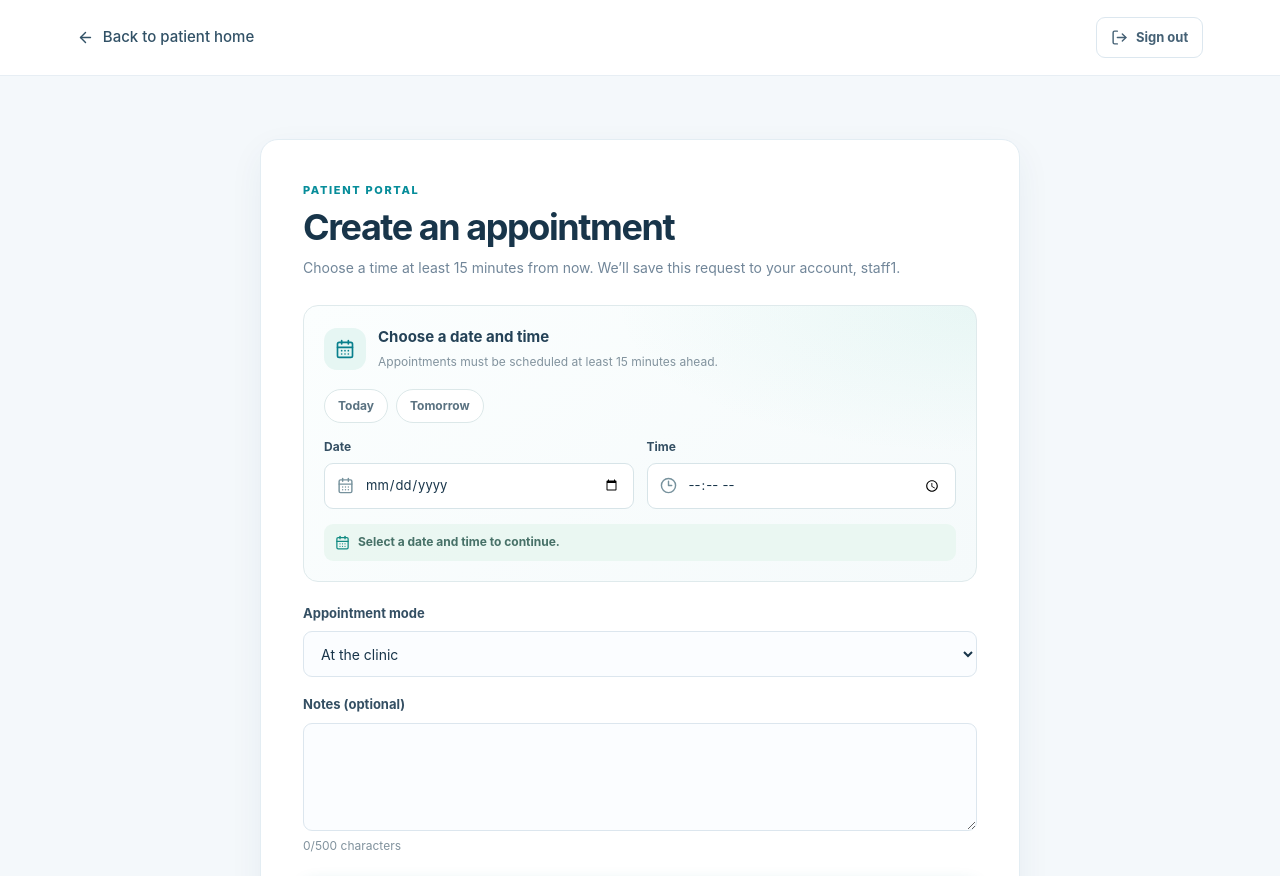
Scenario: appointment page integrations › creates a patient appointment using only the supported appointment fields
The image size is (1280, 876).
Click the button "Tomorrow": (440,406) top-left (396, 389), bottom-right (484, 423)
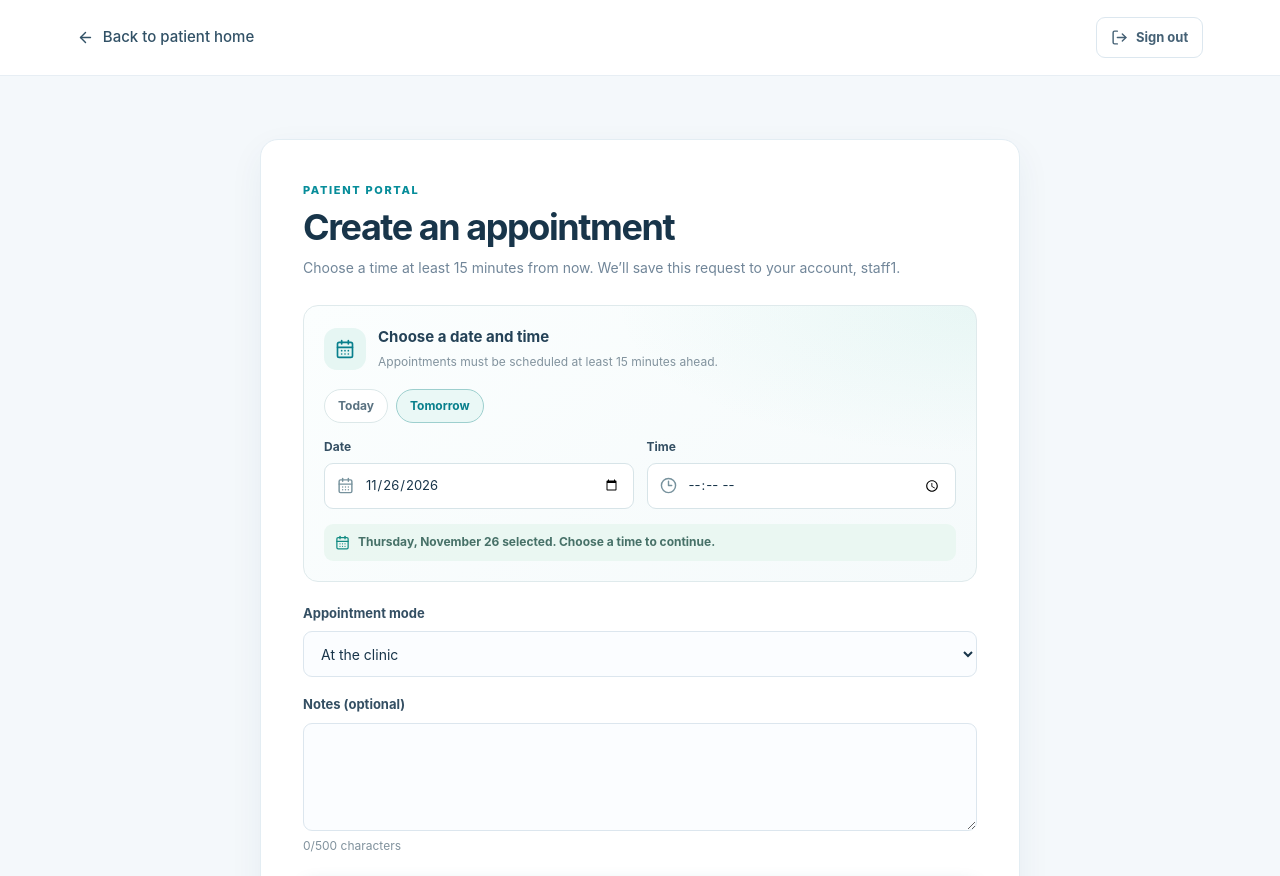
Click the button "Today": (356,406) top-left (324, 389), bottom-right (388, 423)
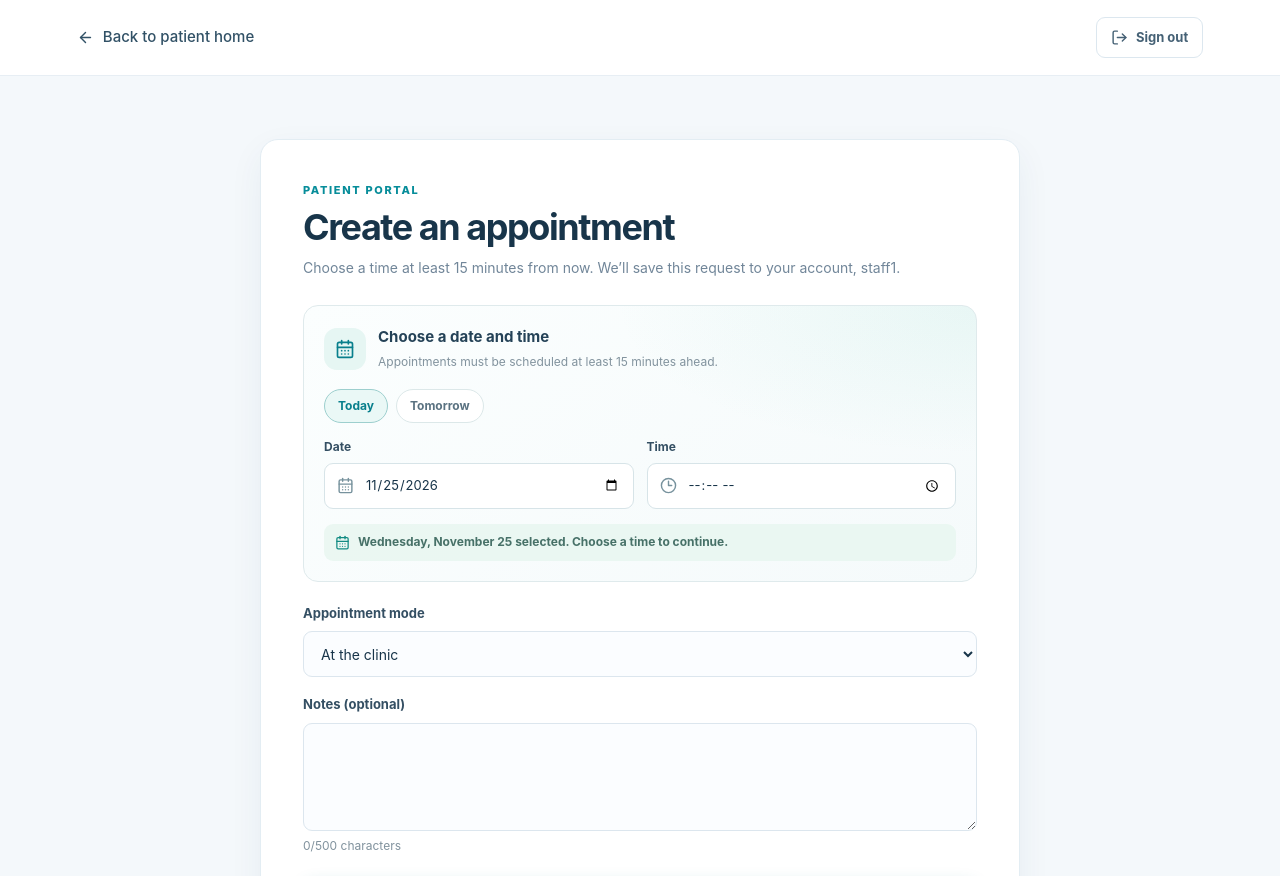
In the date field labelled "Date": (479,486) top-left (324, 463), bottom-right (634, 509), type "2031-05-04"
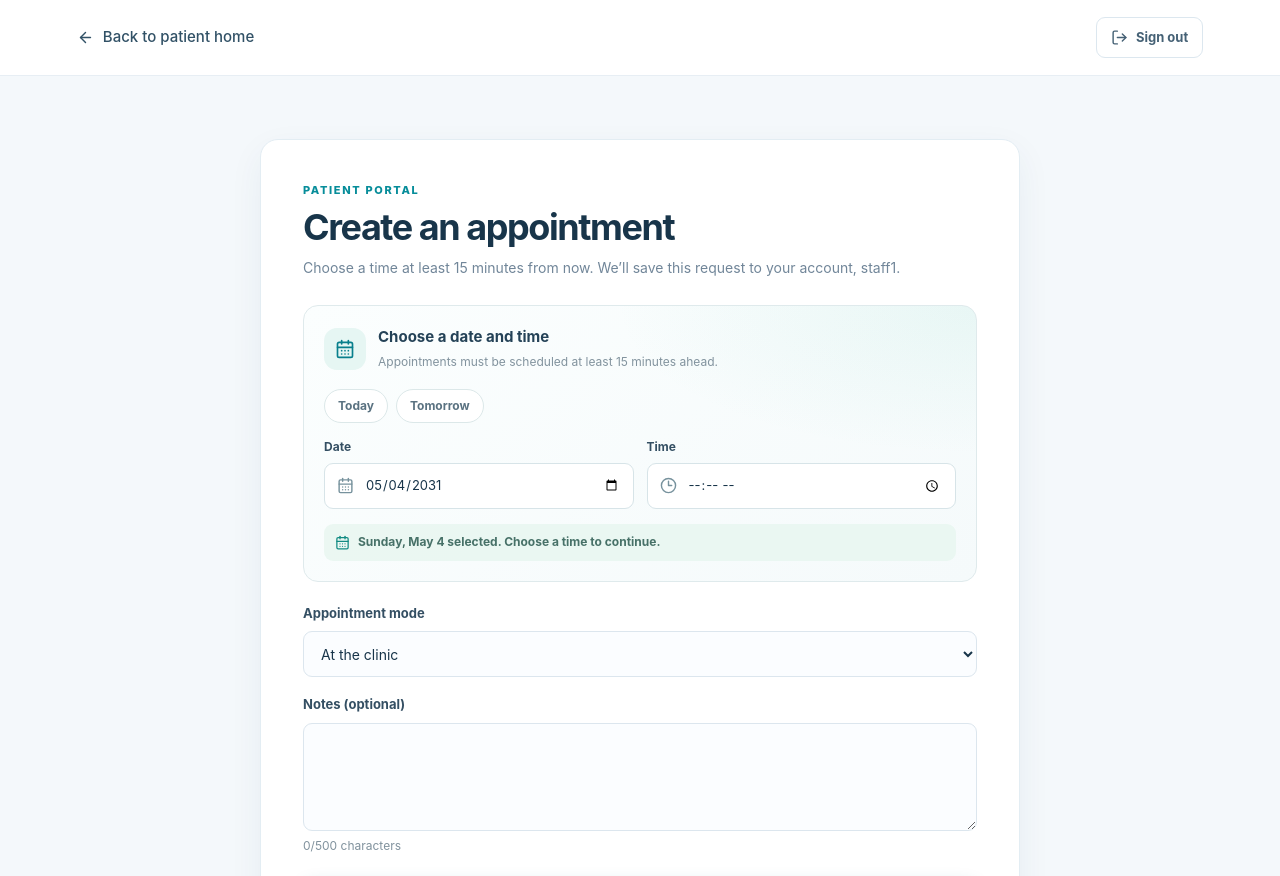
In the time field labelled "Time": (801,486) top-left (646, 463), bottom-right (956, 509), type "10:30"
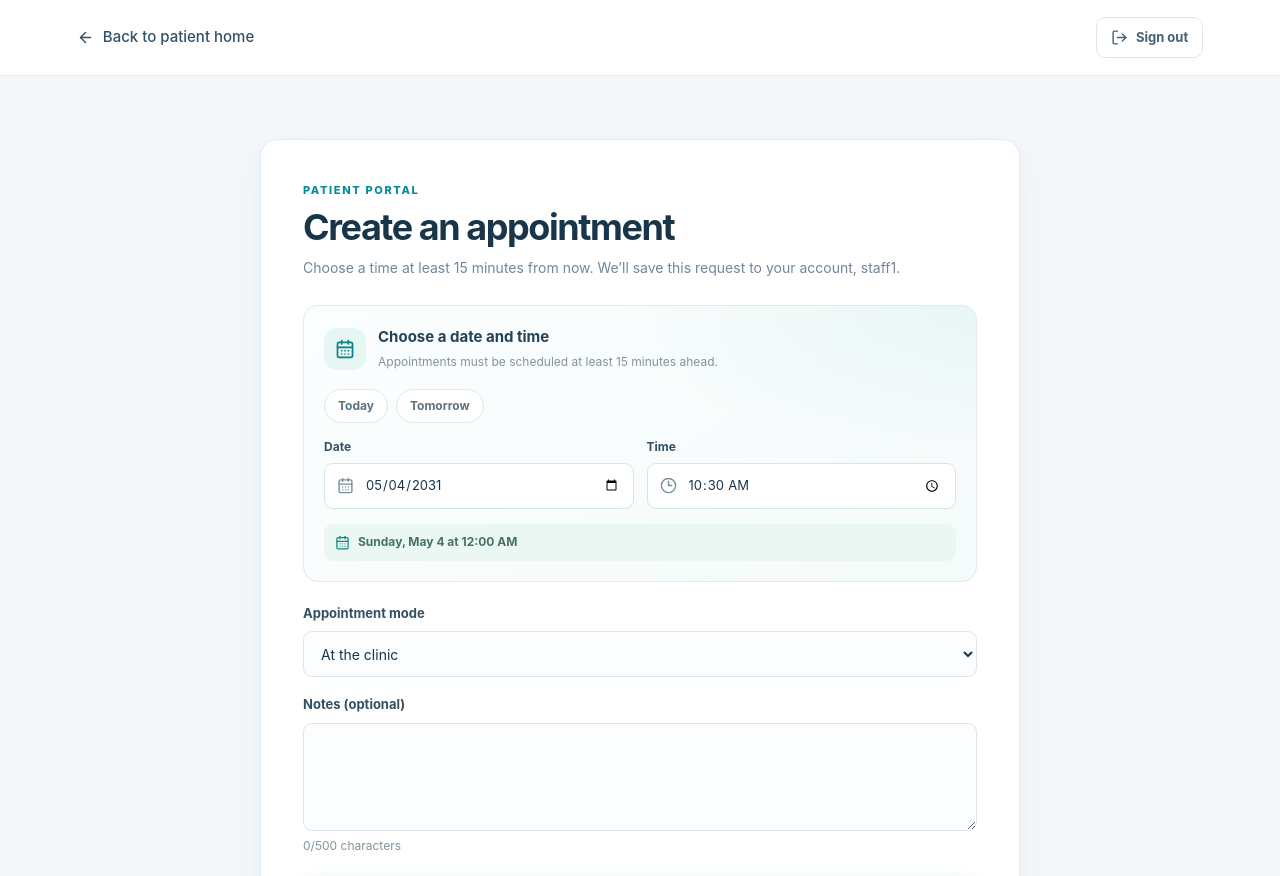
Select "Online" in the dropdown labelled "Appointment mode": (640,654) top-left (303, 632), bottom-right (977, 678)
In the text box labelled "Notes (optional)": (640,777) top-left (303, 723), bottom-right (977, 831), type "  Initial consultation  "
(page scrolled)
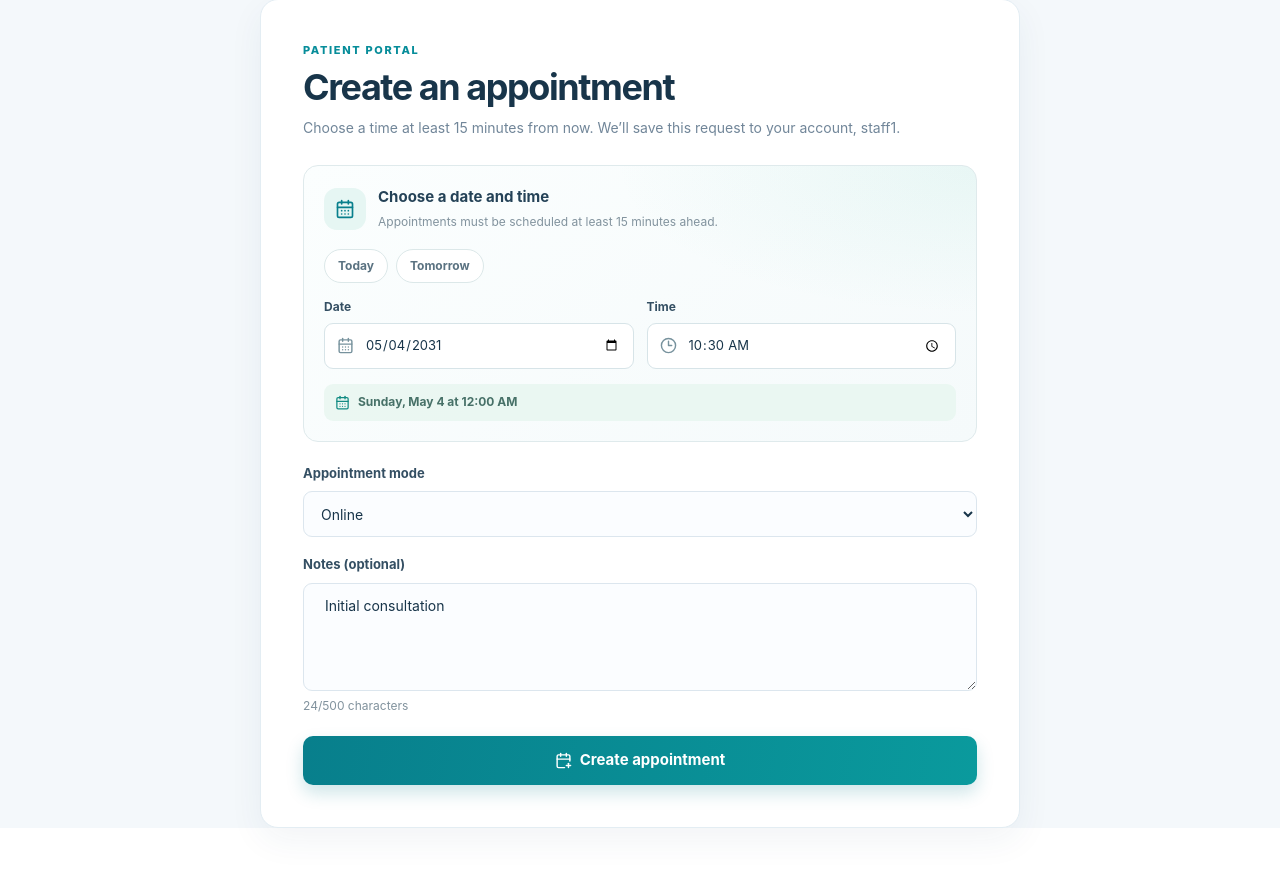
Submit the form named "Create appointment", box top-left (303, 166), bottom-right (977, 785)
(page scrolled)
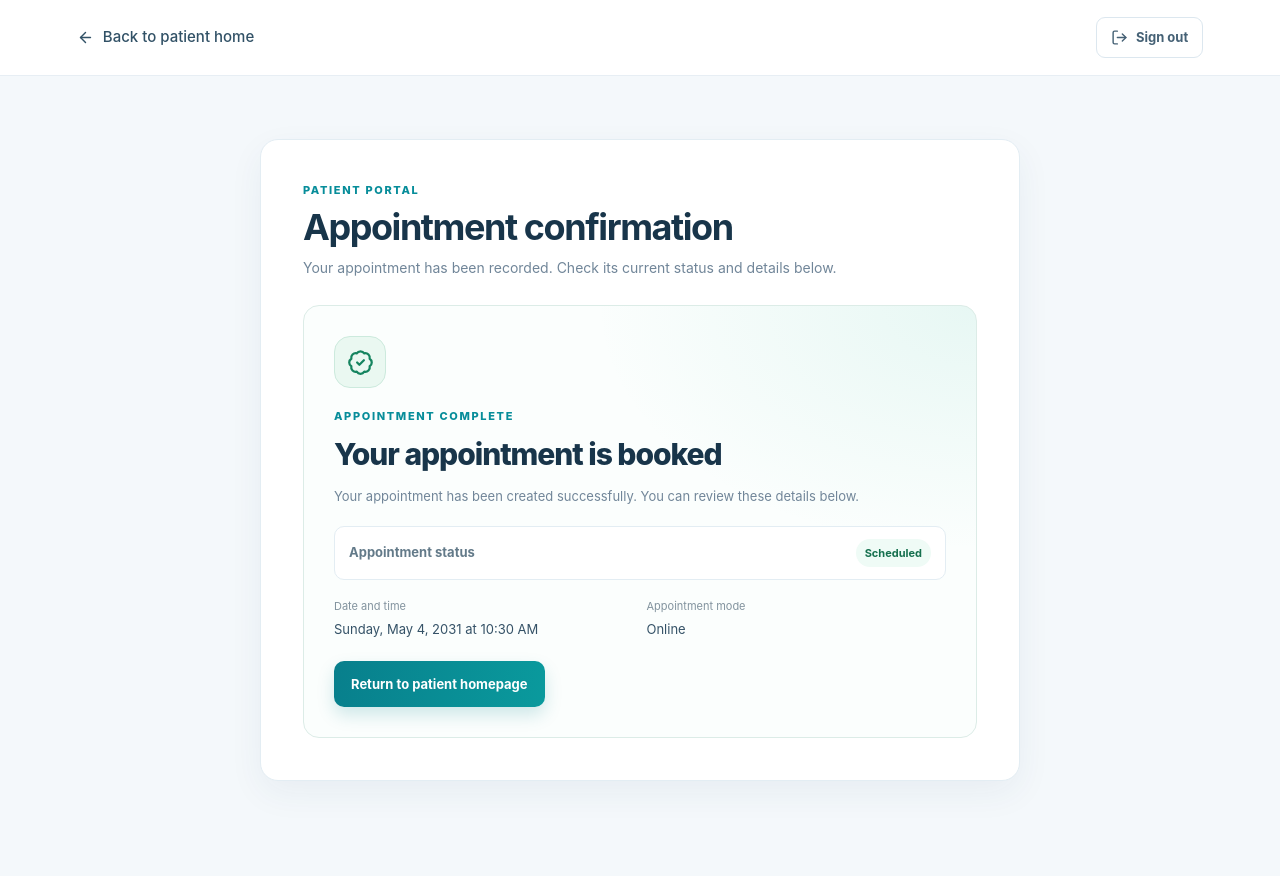
Expected: the text "Scheduled" is shown, top-left (856, 539), bottom-right (931, 567)
Result: the heading "Your appointment is booked" is shown at top-left (334, 436), bottom-right (722, 472)
Result: the text "Appointment status" is shown at top-left (349, 543), bottom-right (475, 563)
